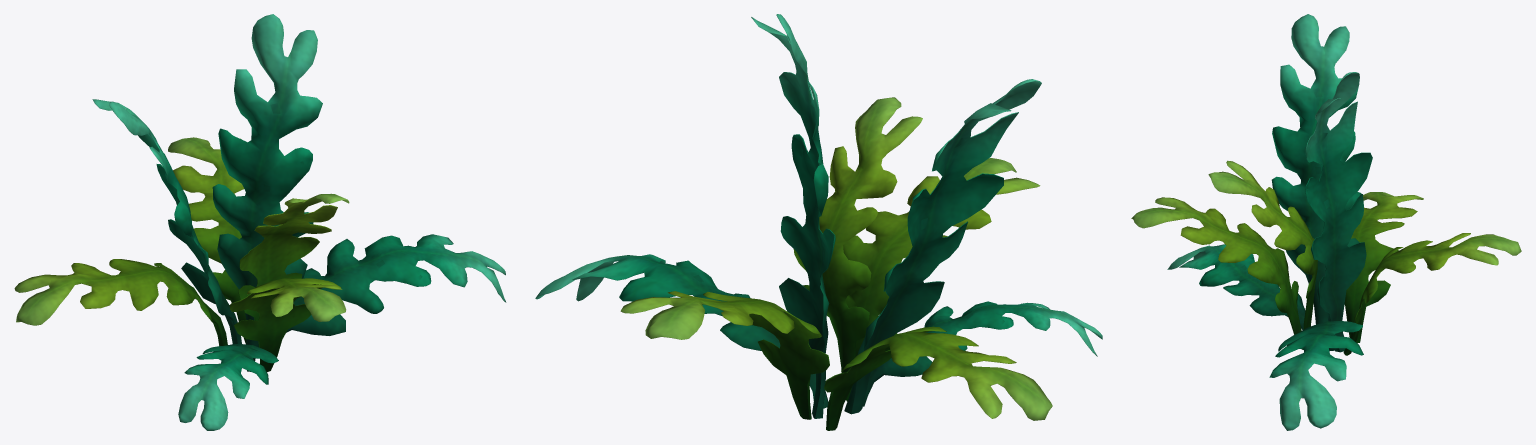
File: SHANHU1.fbx
3 renders of one model, left to right at view 1: azimuth 30°, elevation 25°; view 2: azimuth 150°, elevation 25°; view 3: azimuth 270°, elevation 25°, orthographic. The views are drawn at different scales.
Parts seen in each view (by area): view 1: Cartoon_Seaweed_10_4_Cartoon_Seaweed_10_0; view 2: Cartoon_Seaweed_10_4_Cartoon_Seaweed_10_0; view 3: Cartoon_Seaweed_10_4_Cartoon_Seaweed_10_0.
Part boxes in pixels (box(x1,y1,x2,y2)): Cartoon_Seaweed_10_4_Cartoon_Seaweed_10_0: box(14, 14, 506, 430); Cartoon_Seaweed_10_4_Cartoon_Seaweed_10_0: box(535, 14, 1102, 430); Cartoon_Seaweed_10_4_Cartoon_Seaweed_10_0: box(1131, 14, 1521, 430).
Bounding box in the file's own units: 80.41 × 55.89 × 67.99.
